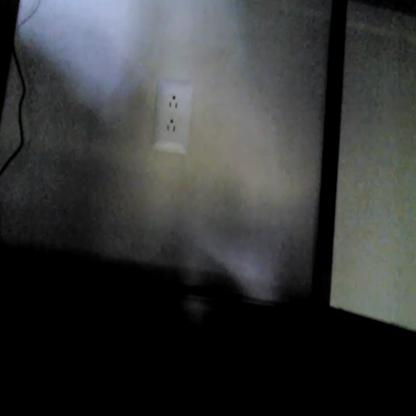OUTLET: (153, 82, 194, 154)
